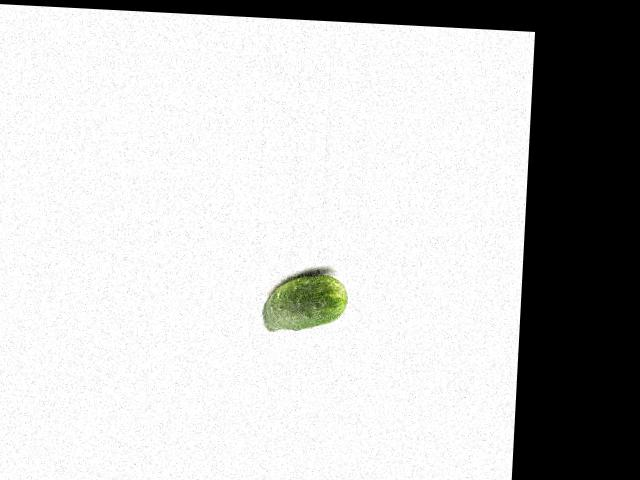cucumber: (261, 271, 349, 335)
